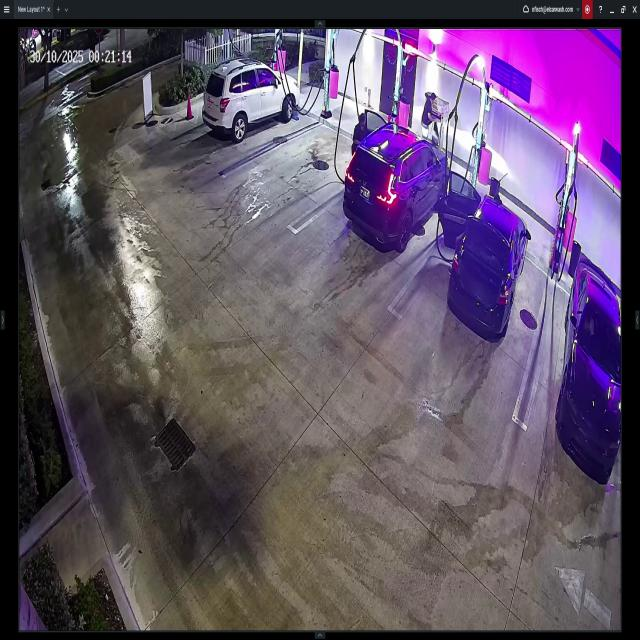Car: (558, 262, 622, 484), (344, 110, 448, 246), (445, 170, 528, 339), (202, 58, 299, 140)
